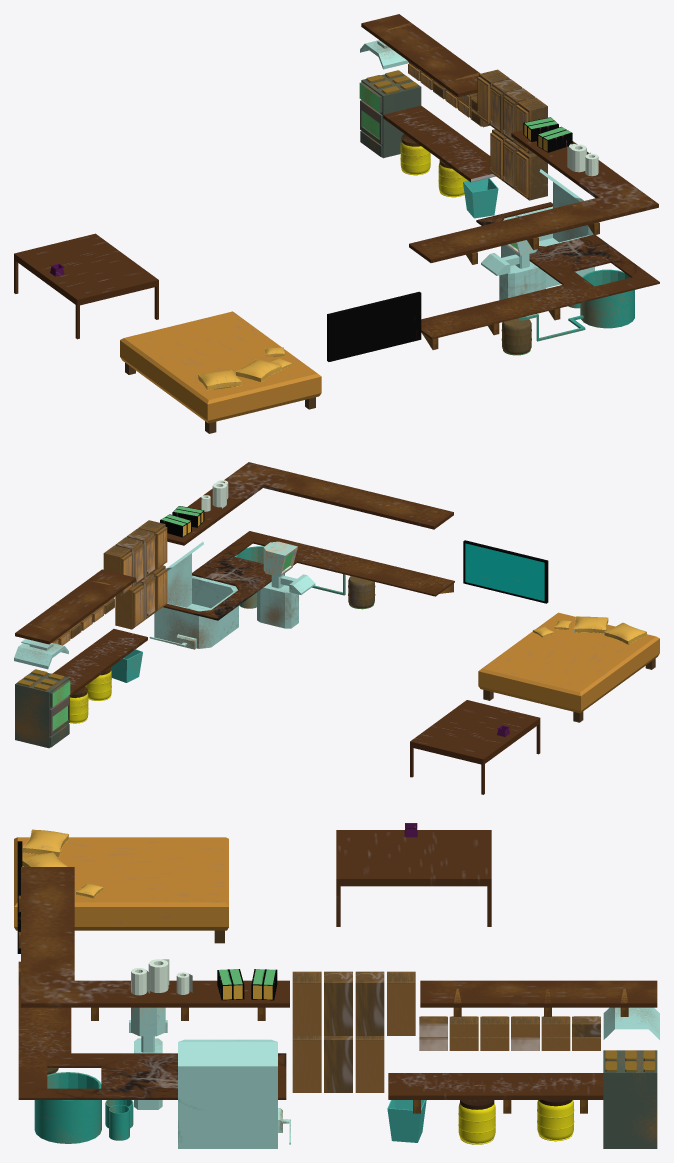
The model's file is MC_Room_FBX (1).fbx.
3 renders of one model, top to bottom at view 1: azimuth 30°, elevation 25°; view 2: azimuth 150°, elevation 25°; view 3: azimuth 270°, elevation 25°, orthographic. The views are drawn at different scales.
Visible parts, largest first — view 1: MC_Room_00; view 2: MC_Room_00; view 3: MC_Room_00.
Boxes of the visible parts, box(x1,y1,x2,y2) form: MC_Room_00: box(14, 14, 659, 433); MC_Room_00: box(14, 462, 659, 794); MC_Room_00: box(14, 823, 659, 1148).
Size of the model in its own units: 1195 by 351 by 1201.
